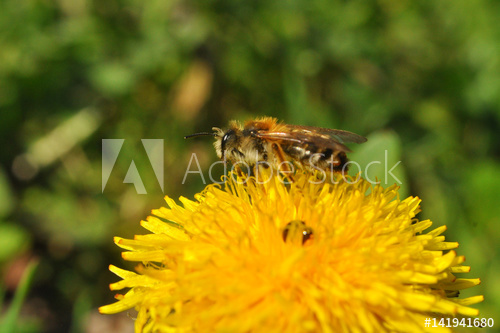dandelion: (110, 163, 490, 333)
